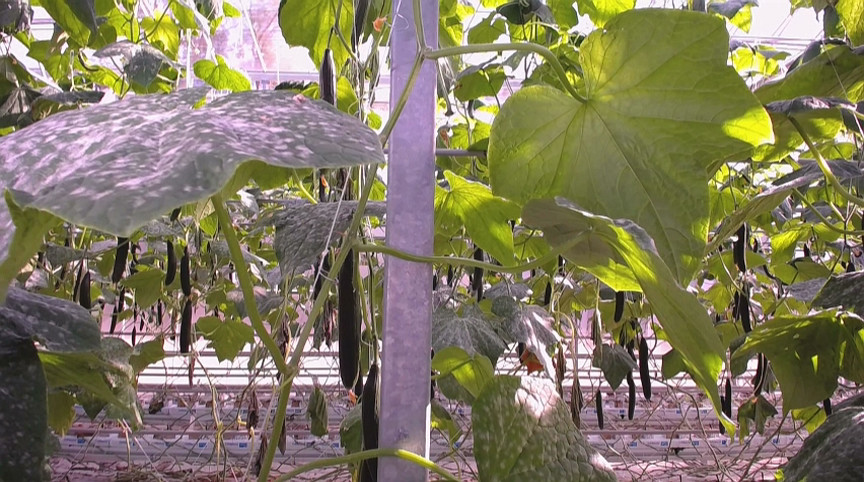cucumber: (340, 249, 361, 391), (362, 364, 381, 479), (319, 48, 337, 108), (637, 338, 653, 402), (110, 235, 131, 282), (180, 300, 195, 356), (164, 238, 177, 287), (735, 223, 746, 275), (613, 290, 625, 324)
